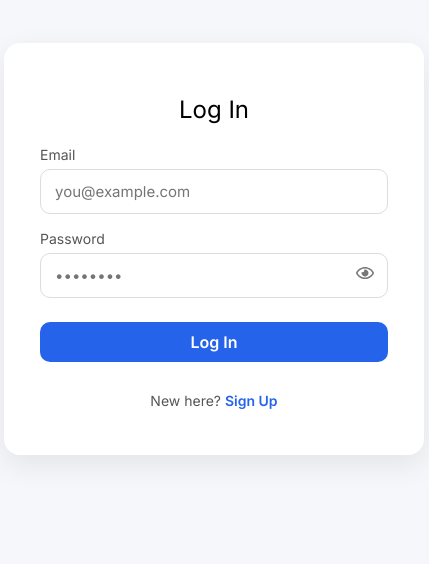
Test: перемикається назад на логін
Click the text "Sign Up" at [251, 400], box [225, 392, 278, 409]
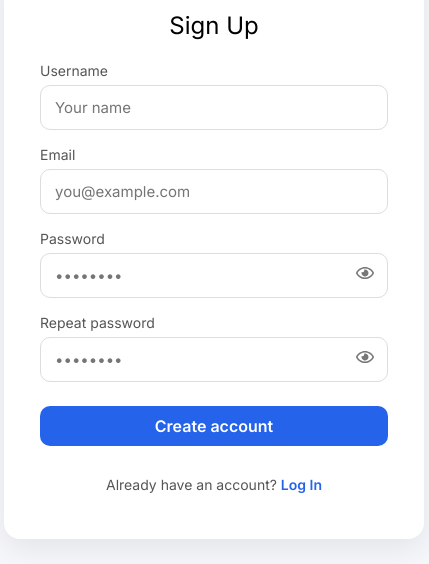
Click the text "Log In" at [301, 484], box [281, 476, 322, 493]
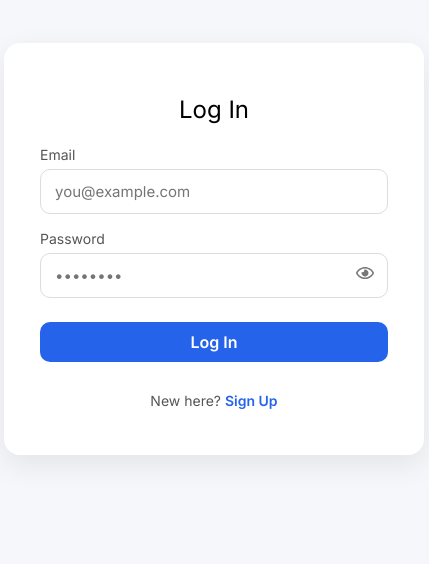
expect the heading "Log In" is shown: met, box [179, 95, 249, 124]
